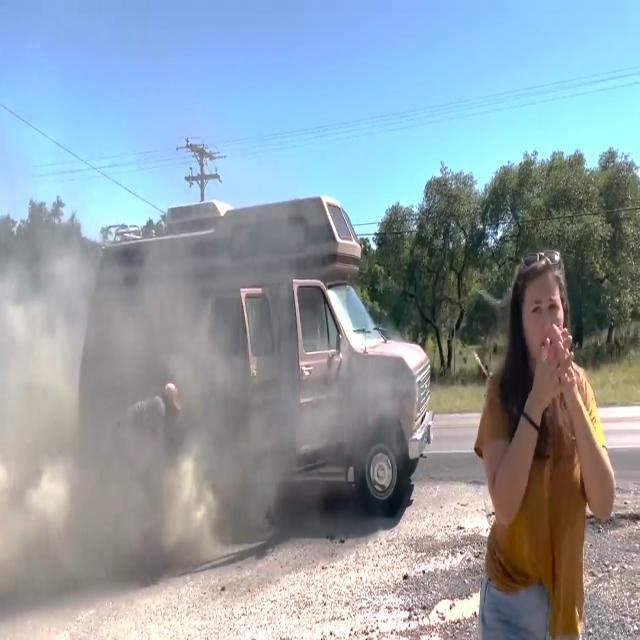Fire: (426, 588, 482, 632)
Smoke: (0, 193, 412, 558)
